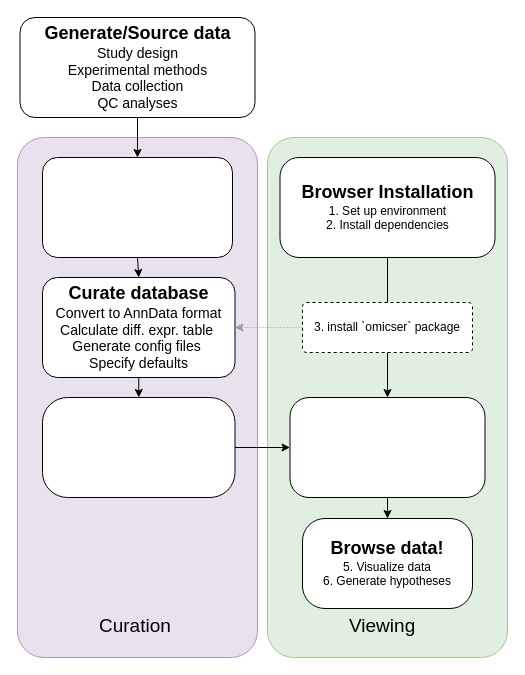
Image size: 525x675. Some labels were removed from this diagram. The box of each missing label's shape, as (x1, y1, x2, y2) in pixels:
Browser Configuration 4. specify database path: (289, 396, 485, 498)
Preprocess data Filter data Normalize data Calculate summaries: (42, 156, 232, 258)
Share database Folder with data / config: (42, 396, 235, 498)
